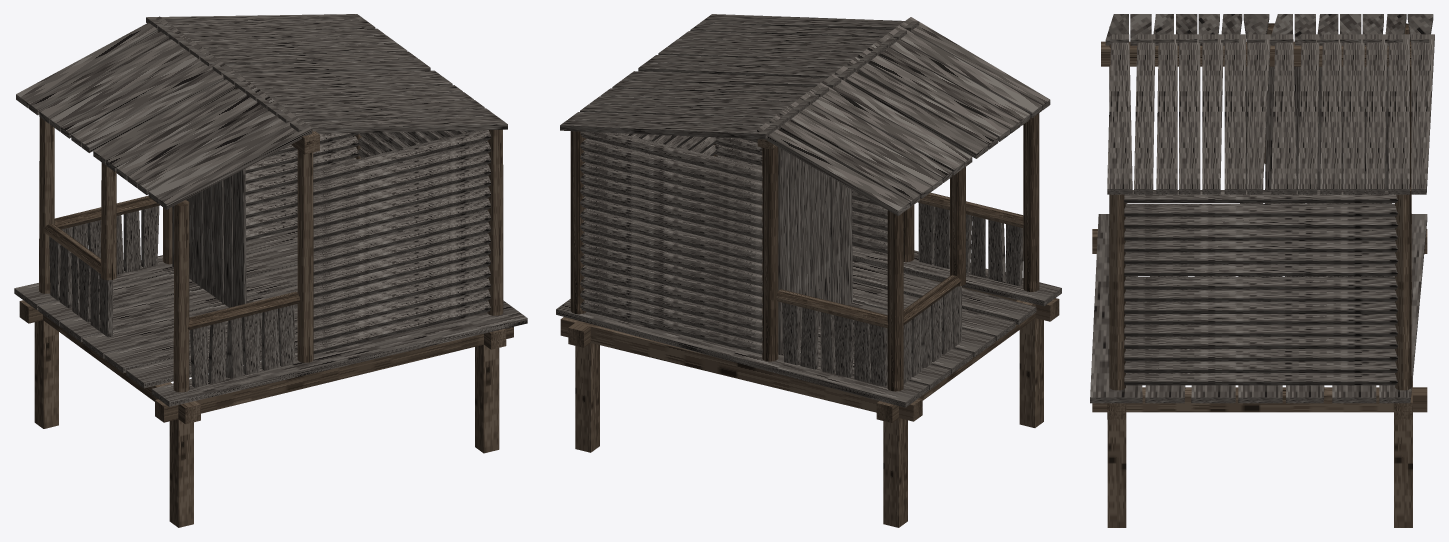
The model's file is Casa_Palette_pequena.fbx.
3 renders of one model, left to right at view 1: azimuth 30°, elevation 25°; view 2: azimuth 150°, elevation 25°; view 3: azimuth 270°, elevation 25°, orthographic. The views are drawn at different scales.
Parts seen in each view (by area): view 1: Cube.030; view 2: Cube.030; view 3: Cube.030.
Boxes of the visible parts, x1=… form: Cube.030: x1=14, y1=14, x2=527, y2=527; Cube.030: x1=556, y1=14, x2=1061, y2=527; Cube.030: x1=1090, y1=14, x2=1434, y2=527.
Bounding box in the file's own units: 753 × 745 × 596.
